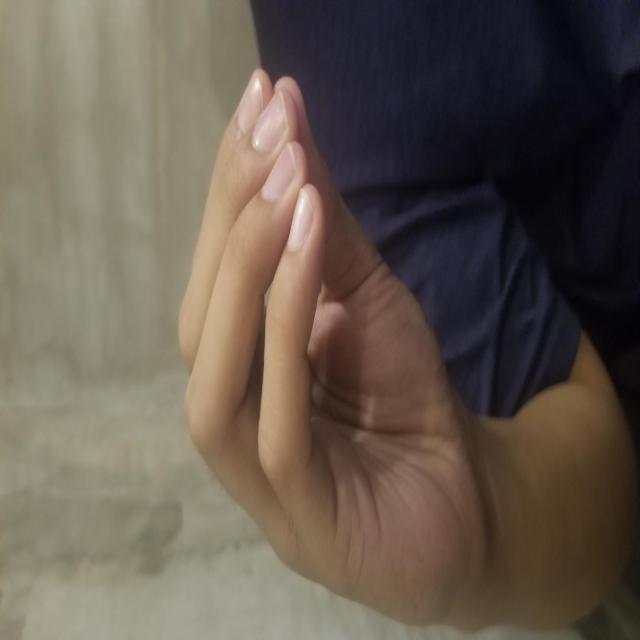O: (18, 176, 573, 483)
